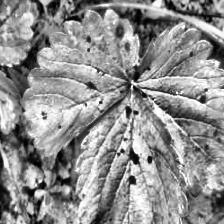Leaf Spot: (21, 6, 140, 158), (73, 84, 189, 224), (136, 21, 224, 199)
